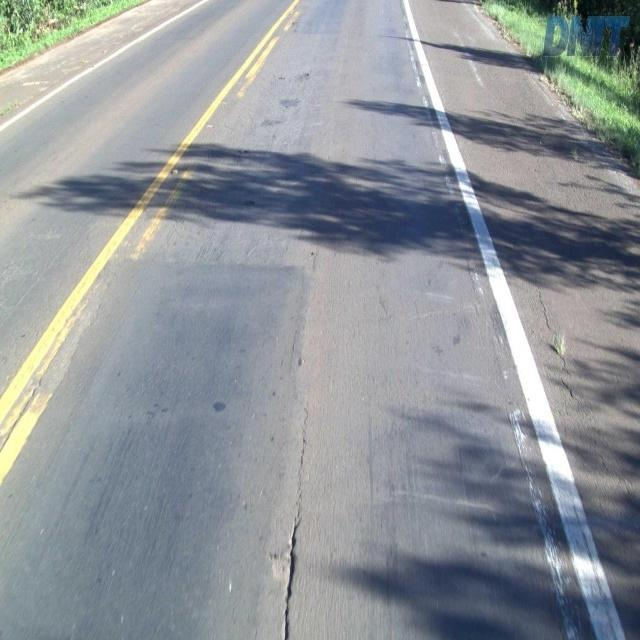pothole: (264, 538, 304, 590)
